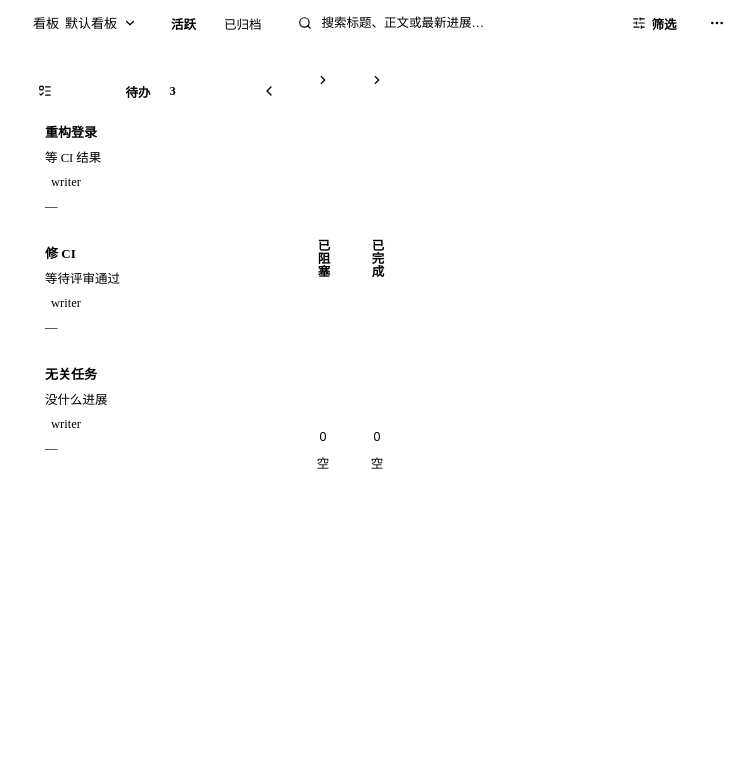
Test: KanbanRoute 搜索与批量删除 › 批量删除先二次确认，失败项回填选择集
Click the button with aria-label "重构登录，状态 todo".
click(71, 132)  # box left=45, top=125, right=101, bottom=213
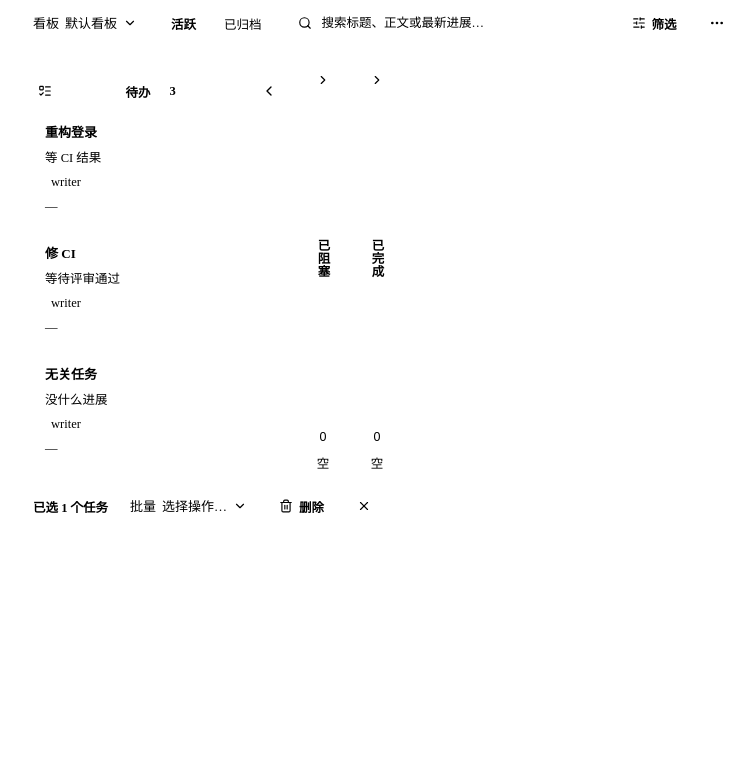
Click the button with aria-label "修 CI，状态 todo".
click(60, 254)  # box left=45, top=246, right=120, bottom=334
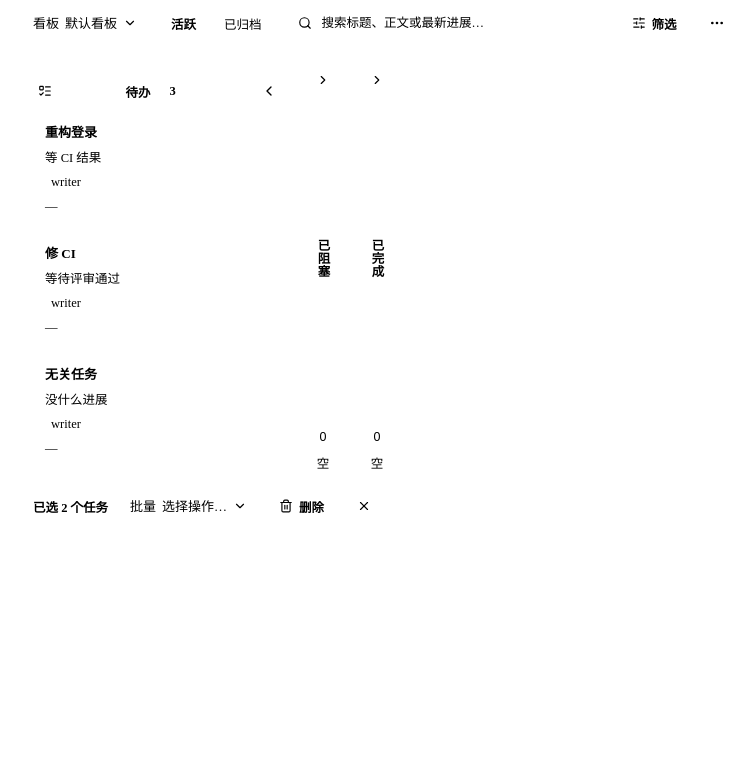
Check: the text "已选 2 个任务" is shown, box left=33, top=496, right=108, bottom=516
Click the button "删除".
click(302, 506)  # box left=267, top=490, right=336, bottom=522
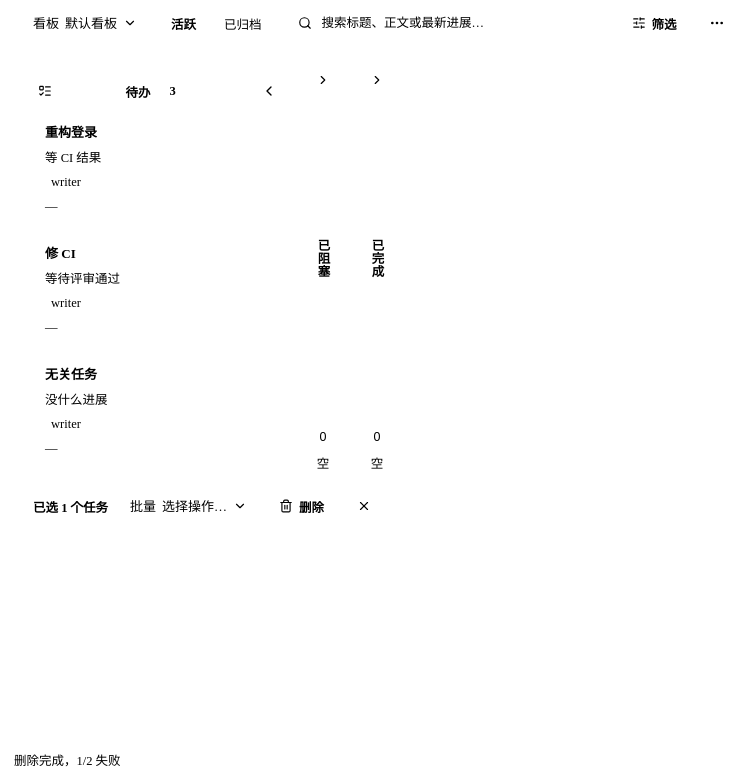
Check: the text "已选 1 个任务" is shown, box left=33, top=496, right=108, bottom=516
